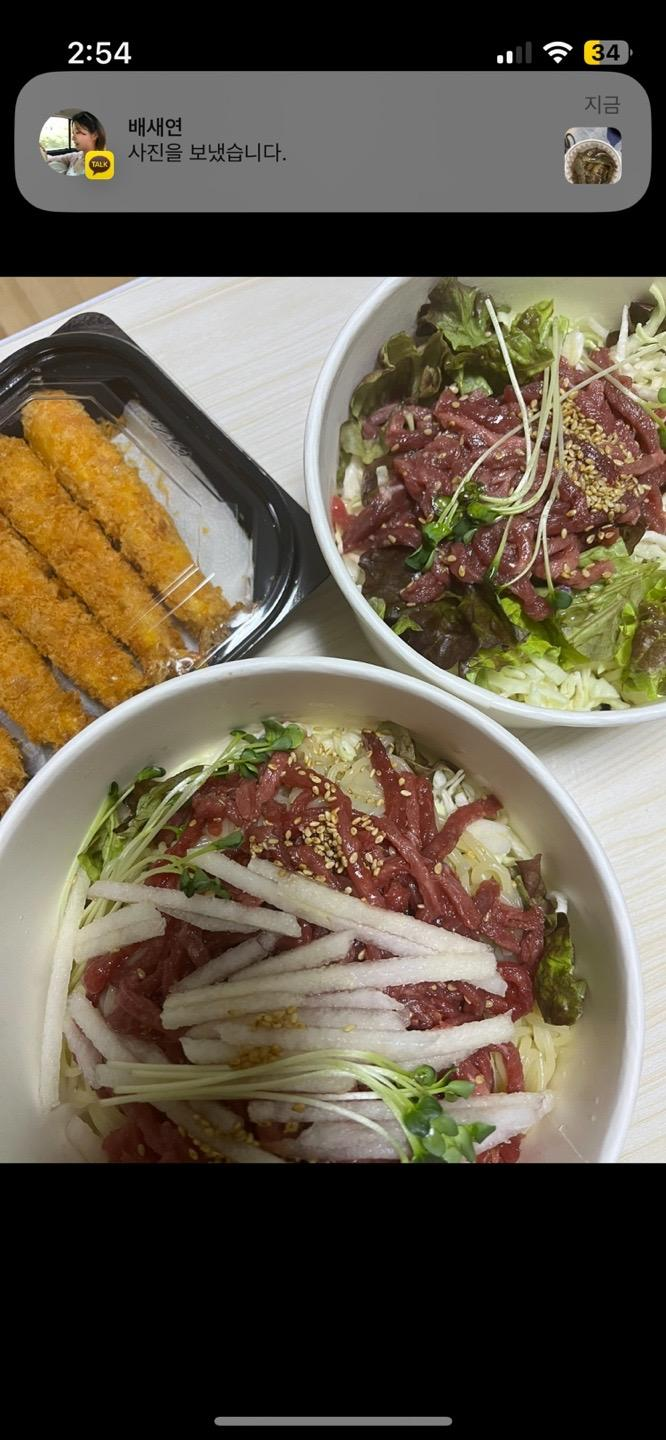Lunch Box: (0, 658, 643, 1162), (0, 313, 324, 816), (305, 277, 665, 727)
